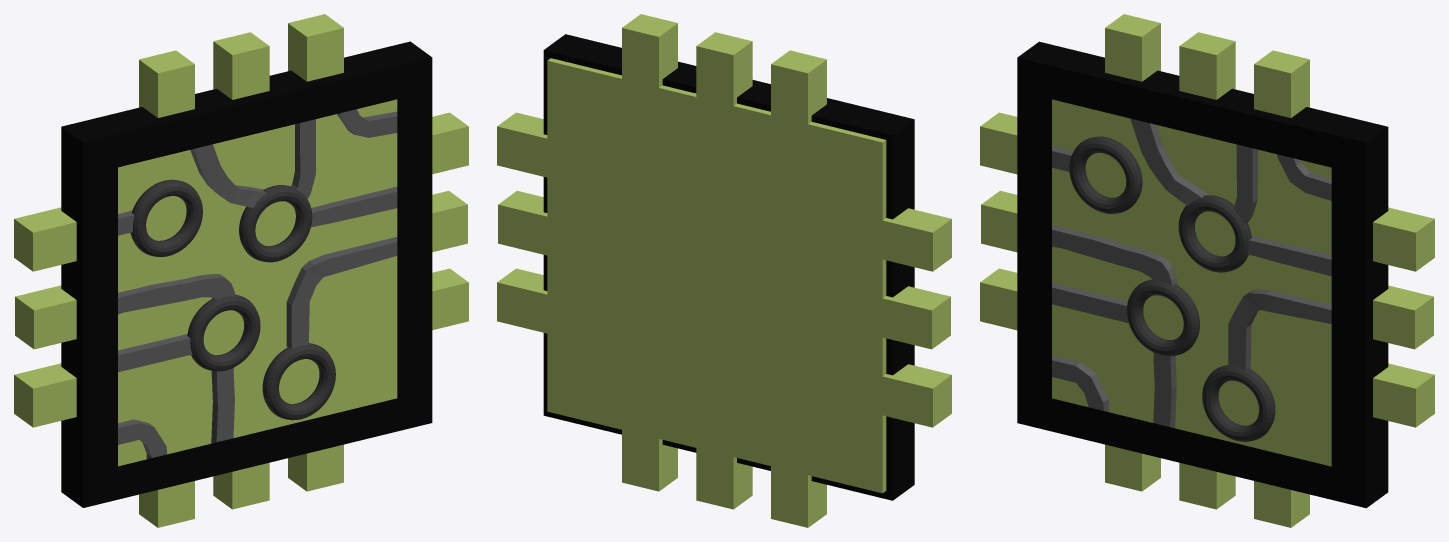
The model's file is chip5.gltf.
3 renders of one model, left to right at view 1: azimuth 30°, elevation 25°; view 2: azimuth 150°, elevation 25°; view 3: azimuth 330°, elevation 25°, orthographic.
Visible parts, largest first — view 1: Cube, Cube2, Cube1, Torus; view 2: Cube, Cube2; view 3: Cube, Cube2, Cube1, Torus.
Part boxes in pixels (bbox=[...]): Cube: bbox=[14, 14, 468, 527]; Cube2: bbox=[61, 41, 432, 507]; Cube1: bbox=[118, 109, 397, 459]; Torus: bbox=[130, 179, 335, 420]; Cube: bbox=[497, 14, 951, 527]; Cube2: bbox=[543, 34, 914, 500]; Cube: bbox=[980, 14, 1434, 527]; Cube2: bbox=[1017, 41, 1388, 508]; Cube1: bbox=[1052, 118, 1331, 428]; Torus: bbox=[1069, 136, 1275, 441].
Size of the model in its own units: 2.6 by 2.59 by 0.2773.
